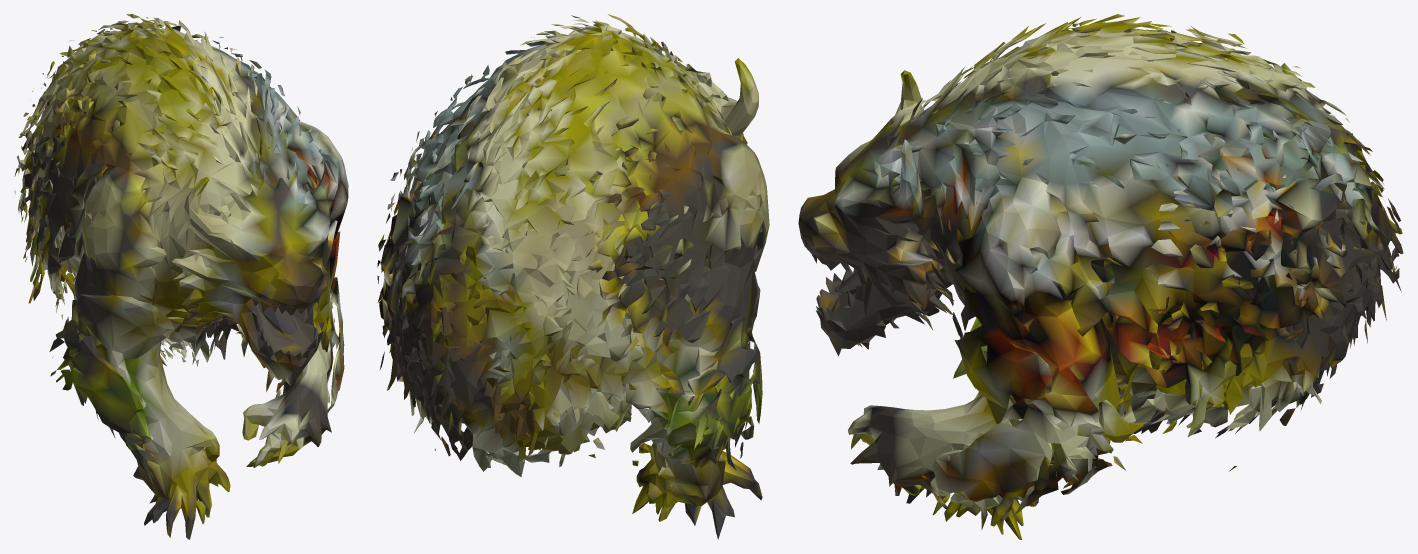
Rendered from centipede.glb.
The picture shows the model from 3 angles, left to right: view 1: azimuth 30°, elevation 25°; view 2: azimuth 150°, elevation 25°; view 3: azimuth 270°, elevation 25°; orthographic projection. The views are drawn at different scales.
Visible parts, largest first — view 1: world; view 2: world; view 3: world.
Part boxes in pixels (bbox=[...]): world: bbox=[14, 14, 348, 539]; world: bbox=[377, 14, 769, 539]; world: bbox=[798, 14, 1403, 539].
Bounding box in the file's own units: 0.6492 × 1 × 1.01.
